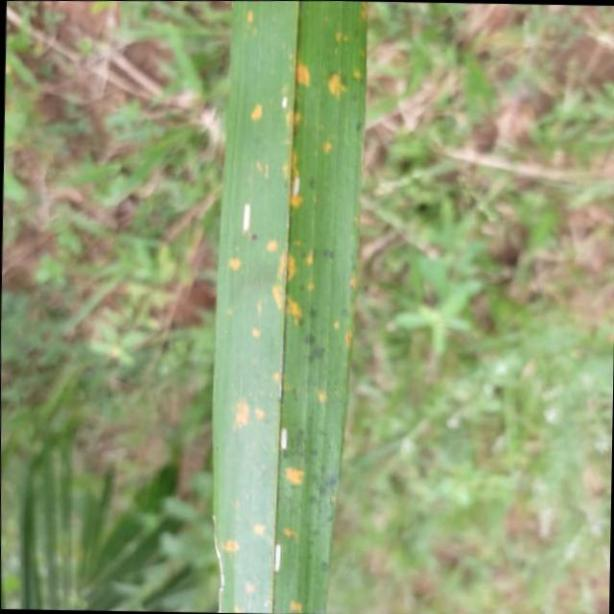Kalium: (211, 6, 371, 614)
